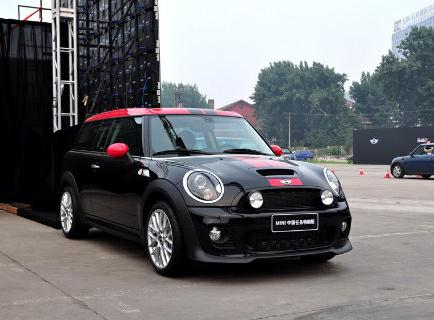MINI CLUBMAN: (49, 102, 365, 282)
